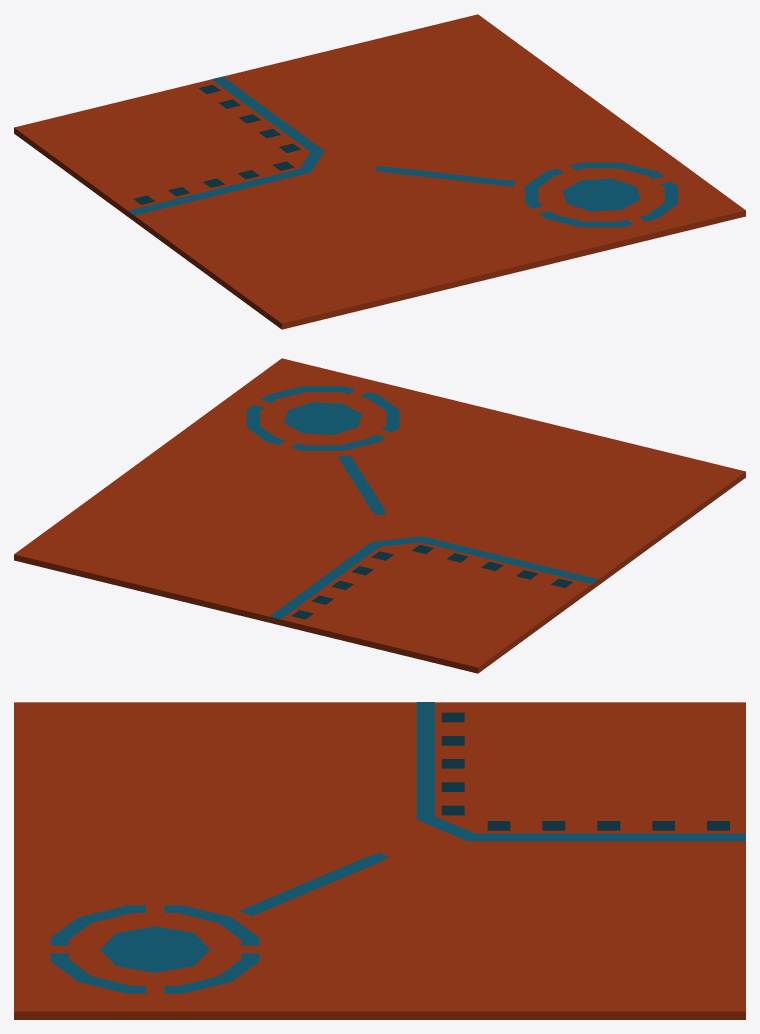
The model's file is Tile_3-1B.fbx.
The picture shows the model from 3 angles, top to bottom: view 1: azimuth 30°, elevation 25°; view 2: azimuth 150°, elevation 25°; view 3: azimuth 270°, elevation 25°; orthographic projection. The views are drawn at different scales.
Visible parts, largest first — view 1: Tile_3-1B; view 2: Tile_3-1B; view 3: Tile_3-1B.
Boxes of the visible parts, box(x1,y1,x2,y2) form: Tile_3-1B: box(14, 14, 745, 329); Tile_3-1B: box(14, 358, 745, 673); Tile_3-1B: box(14, 702, 745, 1019).
Bounding box in the file's own units: 4 × 4 × 0.051.
